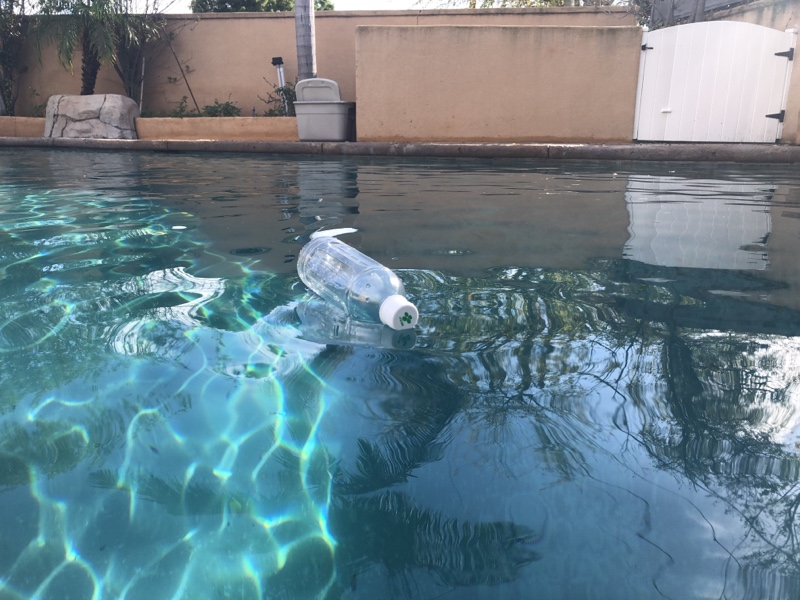Plastic Bottle: (292, 233, 423, 336)
